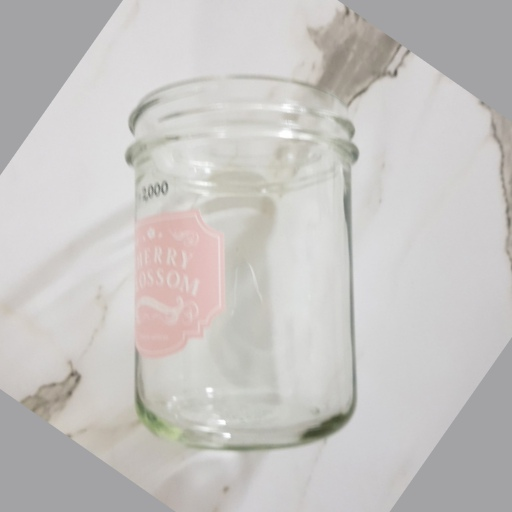Glass_5: (117, 76, 367, 444)
